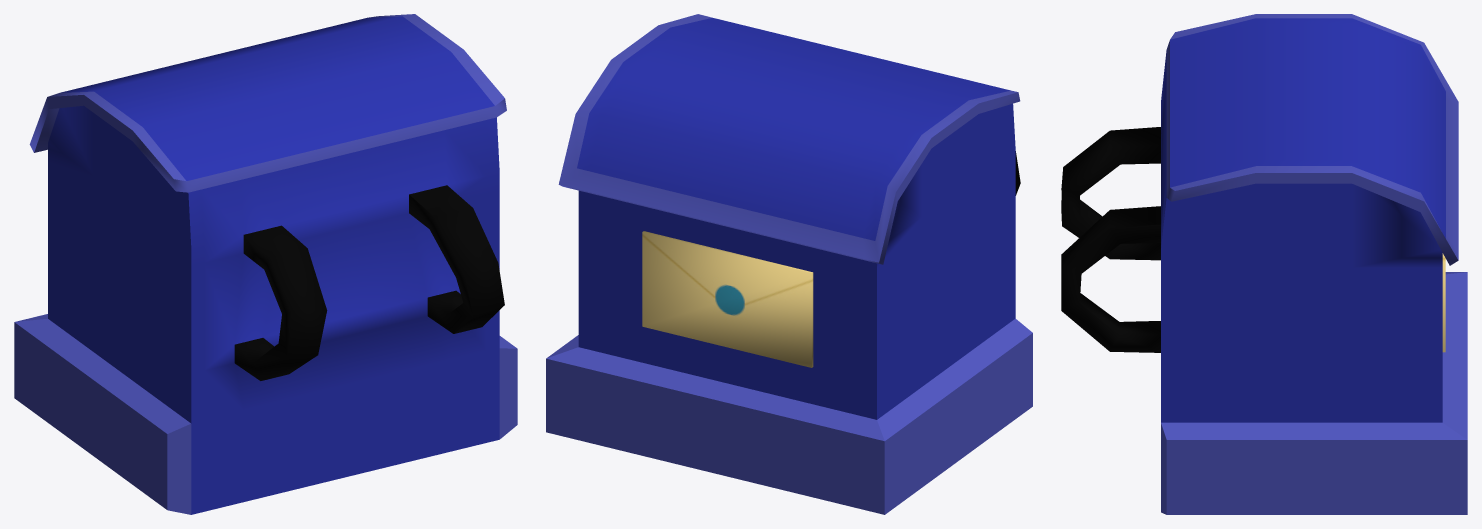
Rendered from MSH_Mailman_Bag_C.fbx.
The picture shows the model from 3 angles, left to right: view 1: azimuth 30°, elevation 25°; view 2: azimuth 150°, elevation 25°; view 3: azimuth 270°, elevation 25°; orthographic projection. The views are drawn at different scales.
Parts seen in each view (by area): view 1: Bag_C; view 2: Bag_C; view 3: Bag_C.
Part boxes in pixels (<box>): Bag_C: <box>14,14,517,514</box>; Bag_C: <box>546,14,1032,514</box>; Bag_C: <box>1061,14,1467,514</box>.
Size of the model in its own units: 96.15 by 94 by 90.35.
